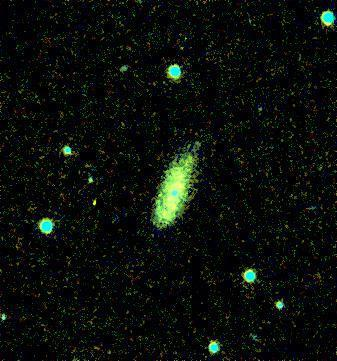star: (75, 189, 105, 219)
